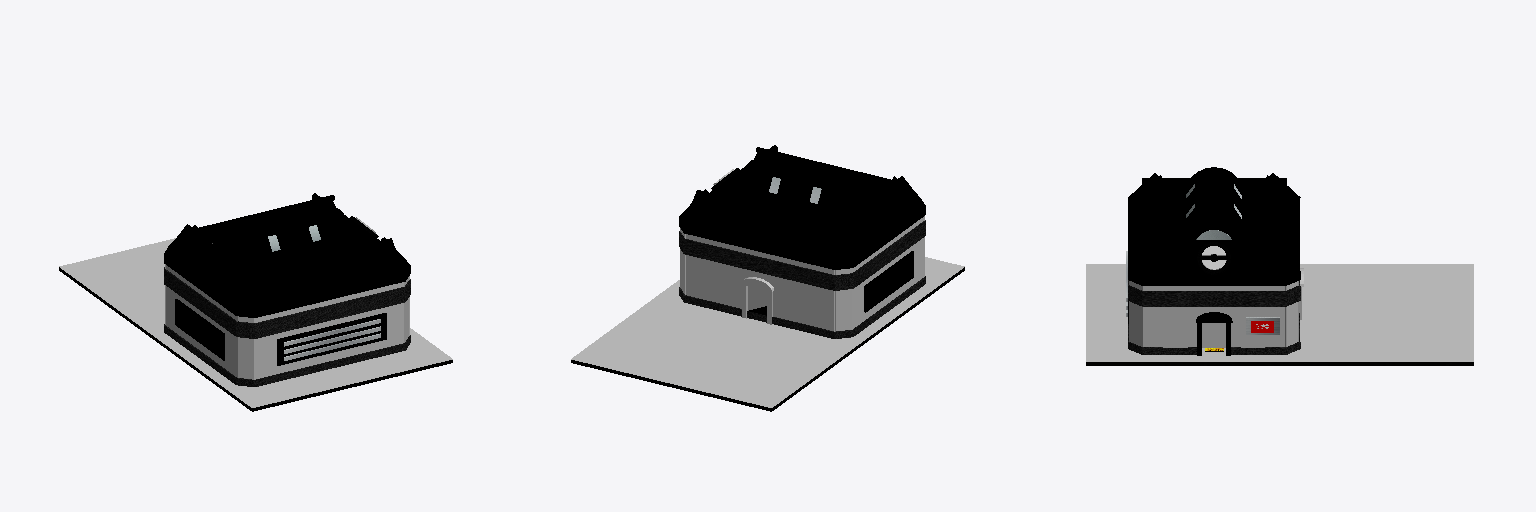
The picture shows the model from 3 angles: view 1: azimuth 30°, elevation 25°; view 2: azimuth 150°, elevation 25°; view 3: azimuth 270°, elevation 25°; orthographic projection.
Visible parts, largest first — view 1: pCube28, group11_pasted__group8_pasted__pasted__pCube14, pCube40, polySurface11, pCylinder2, polySurface3, pCube41, pCube21, pasted__pasted__pCube15pasted__group12group13, pasted__pCube13group5, pasted__pCylinder2group25, pasted__pasted__pCylinder2pasted__group25group26 (+2 smaller); view 2: pCube28, group11_pasted__group8_pasted__pasted__pCube14, pCube40, polySurface11, pCylinder2, polySurface3, pCube41, pasted__pasted__pasted__pCube15pasted__pasted__group12pasted__gr, pasted__pCube13group5, pasted__pasted__pCylinder2pasted__group25group26, pasted__pCylinder2group25, pCube27 (+1 smaller); view 3: pCube28, group11_pasted__group8_pasted__pasted__pCube14, pCube40, polySurface11, pCylinder2, pCube16, polySurface3, pasted__pCube15group12, pCube41, pCube19, pasted__pCube13group5, pCube20 (+2 smaller).
Boxes of the visible parts, x1=… form: pCube28: x1=59, y1=238, x2=452, y2=411; group11_pasted__group8_pasted__pasted__pCube14: x1=164, y1=193, x2=409, y2=309; pCube40: x1=165, y1=285, x2=409, y2=379; polySurface11: x1=164, y1=267, x2=410, y2=338; pCylinder2: x1=214, y1=207, x2=353, y2=269; polySurface3: x1=164, y1=255, x2=410, y2=317; pCube41: x1=164, y1=324, x2=410, y2=386; pCube21: x1=277, y1=313, x2=386, y2=365; pasted__pasted__pCube15pasted__group12group13: x1=196, y1=199, x2=321, y2=240; pasted__pCube13group5: x1=165, y1=264, x2=409, y2=322; pasted__pCylinder2group25: x1=282, y1=211, x2=328, y2=254; pasted__pasted__pCylinder2pasted__group25group26: x1=241, y1=221, x2=287, y2=265; pCube28: x1=571, y1=257, x2=964, y2=411; group11_pasted__group8_pasted__pasted__pCube14: x1=679, y1=145, x2=925, y2=260; pCube40: x1=680, y1=237, x2=924, y2=331; polySurface11: x1=679, y1=220, x2=925, y2=290; pCylinder2: x1=736, y1=159, x2=874, y2=221; polySurface3: x1=679, y1=207, x2=925, y2=269; pCube41: x1=679, y1=276, x2=925, y2=338; pasted__pasted__pasted__pCube15pasted__pasted__group12pasted__gr: x1=768, y1=151, x2=890, y2=192; pasted__pCube13group5: x1=680, y1=216, x2=924, y2=274; pasted__pasted__pCylinder2pasted__group25group26: x1=802, y1=173, x2=848, y2=216; pasted__pCylinder2group25: x1=760, y1=163, x2=807, y2=206; pCube27: x1=871, y1=259, x2=910, y2=304; pCube28: x1=1086, y1=264, x2=1473, y2=365; group11_pasted__group8_pasted__pasted__pCube14: x1=1128, y1=173, x2=1300, y2=276; pCube40: x1=1129, y1=301, x2=1298, y2=347; polySurface11: x1=1128, y1=280, x2=1300, y2=306; pCylinder2: x1=1185, y1=167, x2=1242, y2=239; pCube16: x1=1160, y1=205, x2=1268, y2=239; polySurface3: x1=1128, y1=271, x2=1300, y2=285; pasted__pCube15group12: x1=1160, y1=180, x2=1268, y2=204; pCube41: x1=1128, y1=313, x2=1300, y2=354; pCube19: x1=1163, y1=307, x2=1187, y2=347; pasted__pCube13group5: x1=1129, y1=281, x2=1298, y2=290; pCube20: x1=1241, y1=307, x2=1264, y2=347.
Size of the model in its own units: 24 by 13.79 by 40.
48 materials, 14 textured.